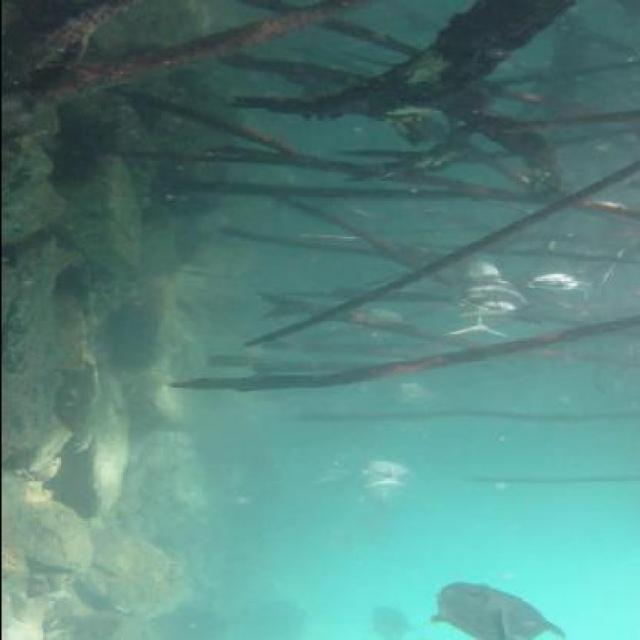Caranx_sexfasciatus_juvenile: (420, 575, 558, 640), (446, 256, 505, 341), (449, 275, 529, 327), (354, 606, 424, 640), (520, 265, 585, 298), (351, 472, 404, 511), (383, 376, 440, 407), (360, 454, 411, 478)
